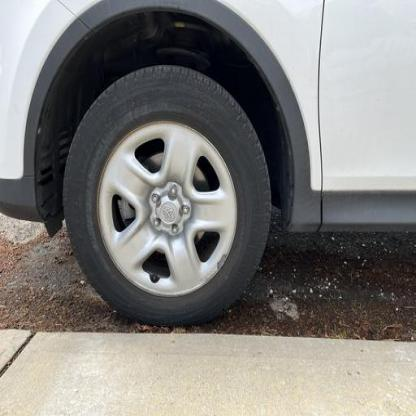Tire: (60, 64, 273, 328)
